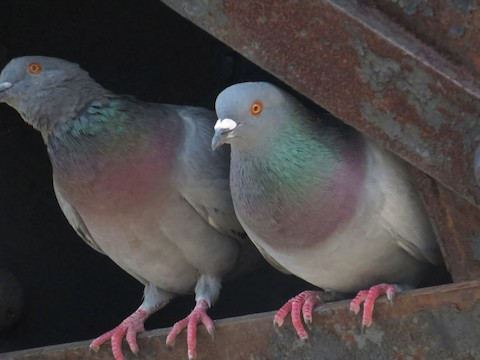pigeon: (1, 51, 275, 355), (206, 70, 461, 344)
